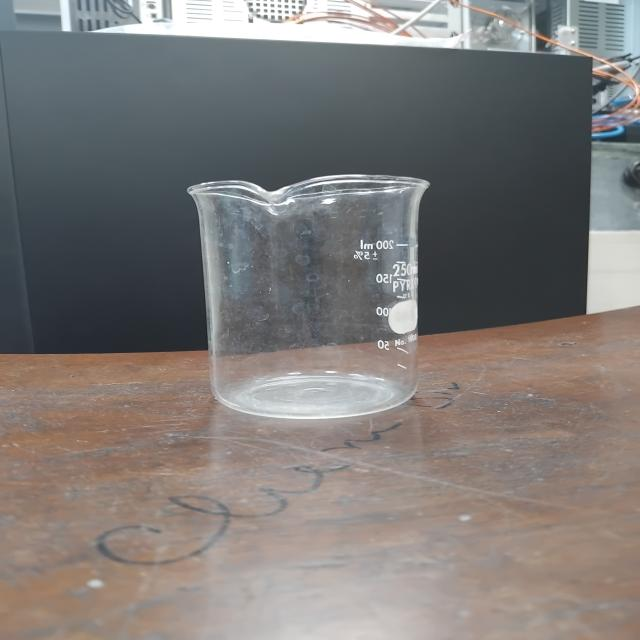Beaker: (148, 134, 466, 438)
